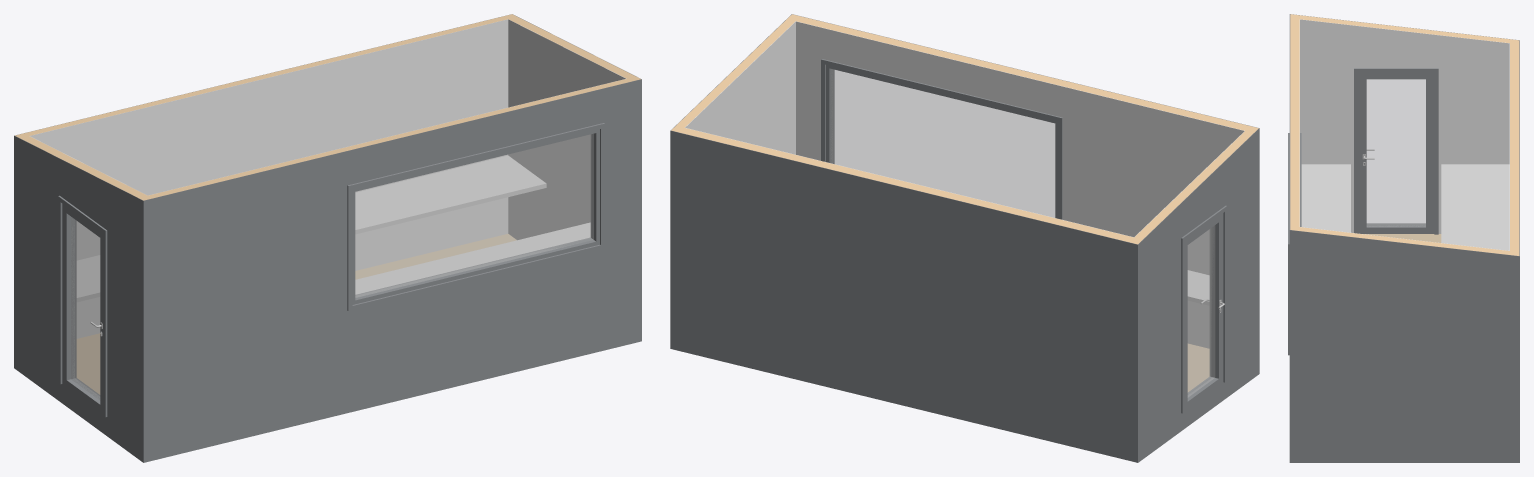
File: sharasofficial@gmail.fbx
The picture shows the model from 3 angles, left to right: view 1: azimuth 30°, elevation 25°; view 2: azimuth 150°, elevation 25°; view 3: azimuth 270°, elevation 25°; orthographic projection. The views are drawn at different scales.
Visible parts, largest first — view 1: IfcWall/Part:2319977, IfcWall/Part:2397154, IfcWindow/Langai (Akrusta):3000x1350x120:2734187, IfcWall/Part:2368366, IfcWall/Part:2397151, IfcDoor/Durys išorinės:900x2100x120 (kairinės):2439432, IfcFurnishingElement/Casework 2:Casework 2:2746431, IfcFurnishingElement/Casework 3:Casework 2:2746725, IfcSlab/Part:2319985, IfcWall/Part:2397156, IfcWall/Part:2319978, IfcWall/Part:2397153 (+1 smaller); view 2: IfcWall/Part:2397155, IfcWall/Part:2319976, IfcWindow/Langai (Akrusta):3000x1350x120:2734187, IfcWall/Part:2368366, IfcDoor/Durys išorinės:900x2100x120 (kairinės):2439432, IfcWall/Part:2397151, IfcWall/Part:2397156, IfcWall/Part:2319978, IfcWall/Part:2397153, IfcWall/Part:2368367, IfcSlab/Part:2319985, IfcFurnishingElement/Casework 3:Casework 2:2746725 (+1 smaller); view 3: IfcWall/Part:2397152, IfcWall/Part:2368365, IfcDoor/Durys išorinės:900x2100x120 (kairinės):2439432, IfcFurnishingElement/Casework 2:Casework 2:2746431, IfcFurnishingElement/Casework 3:Casework 2:2746725, IfcWall/Part:2397156, IfcWall/Part:2319978, IfcWall/Part:2397153, IfcWall/Part:2368367, IfcWindow/Langai (Akrusta):3000x1350x120:2734187, IfcWall/Part:2319977, IfcWall/Part:2397155 (+1 smaller).
Boxes of the visible parts, <box> form: IfcWall/Part:2319977: <box>143,79,641,462</box>; IfcWall/Part:2397154: <box>30,19,508,338</box>; IfcWindow/Langai (Akrusta):3000x1350x120:2734187: <box>347,123,604,311</box>; IfcWall/Part:2368366: <box>14,135,143,462</box>; IfcWall/Part:2397151: <box>508,19,626,239</box>; IfcDoor/Durys išorinės:900x2100x120 (kairinės):2439432: <box>58,195,107,417</box>; IfcFurnishingElement/Casework 2:Casework 2:2746431: <box>76,155,546,302</box>; IfcFurnishingElement/Casework 3:Casework 2:2746725: <box>355,222,590,294</box>; IfcSlab/Part:2319985: <box>76,234,516,394</box>; IfcWall/Part:2397156: <box>15,14,516,138</box>; IfcWall/Part:2319978: <box>139,79,631,200</box>; IfcWall/Part:2397153: <box>508,17,640,81</box>; IfcWall/Part:2397155: <box>670,130,1138,462</box>; IfcWall/Part:2319976: <box>796,21,1244,348</box>; IfcWindow/Langai (Akrusta):3000x1350x120:2734187: <box>821,59,1062,219</box>; IfcWall/Part:2368366: <box>1138,128,1259,462</box>; IfcDoor/Durys išorinės:900x2100x120 (kairinės):2439432: <box>1181,205,1227,413</box>; IfcWall/Part:2397151: <box>685,21,795,154</box>; IfcWall/Part:2397156: <box>671,126,1142,244</box>; IfcWall/Part:2319978: <box>796,16,1258,132</box>; IfcWall/Part:2397153: <box>676,14,800,127</box>; IfcWall/Part:2368367: <box>1134,131,1253,239</box>; IfcSlab/Part:2319985: <box>1187,343,1209,391</box>; IfcFurnishingElement/Casework 3:Casework 2:2746725: <box>1187,270,1209,305</box>; IfcWall/Part:2397152: <box>1289,230,1519,462</box>; IfcWall/Part:2368365: <box>1300,19,1509,233</box>; IfcDoor/Durys išorinės:900x2100x120 (kairinės):2439432: <box>1354,68,1438,234</box>; IfcFurnishingElement/Casework 2:Casework 2:2746431: <box>1441,164,1509,250</box>; IfcFurnishingElement/Casework 3:Casework 2:2746725: <box>1301,164,1350,232</box>; IfcWall/Part:2397156: <box>1510,39,1519,255</box>; IfcWall/Part:2319978: <box>1290,14,1299,226</box>; IfcWall/Part:2397153: <box>1290,226,1509,254</box>; IfcWall/Part:2368367: <box>1299,15,1509,43</box>; IfcWindow/Langai (Akrusta):3000x1350x120:2734187: <box>1288,133,1301,355</box>; IfcWall/Part:2319977: <box>1289,14,1290,229</box>; IfcWall/Part:2397155: <box>1519,40,1519,462</box>.
Bounding box in the file's own units: 607 × 302 × 272.
